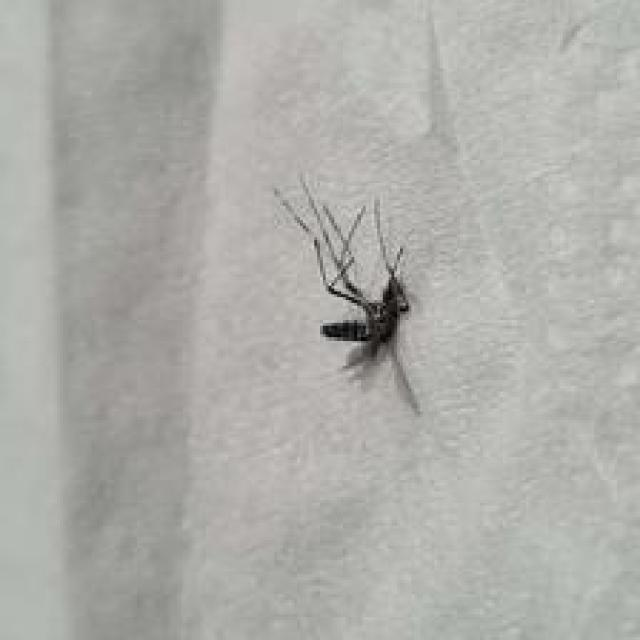Aedes albopictus: (273, 172, 424, 417)
